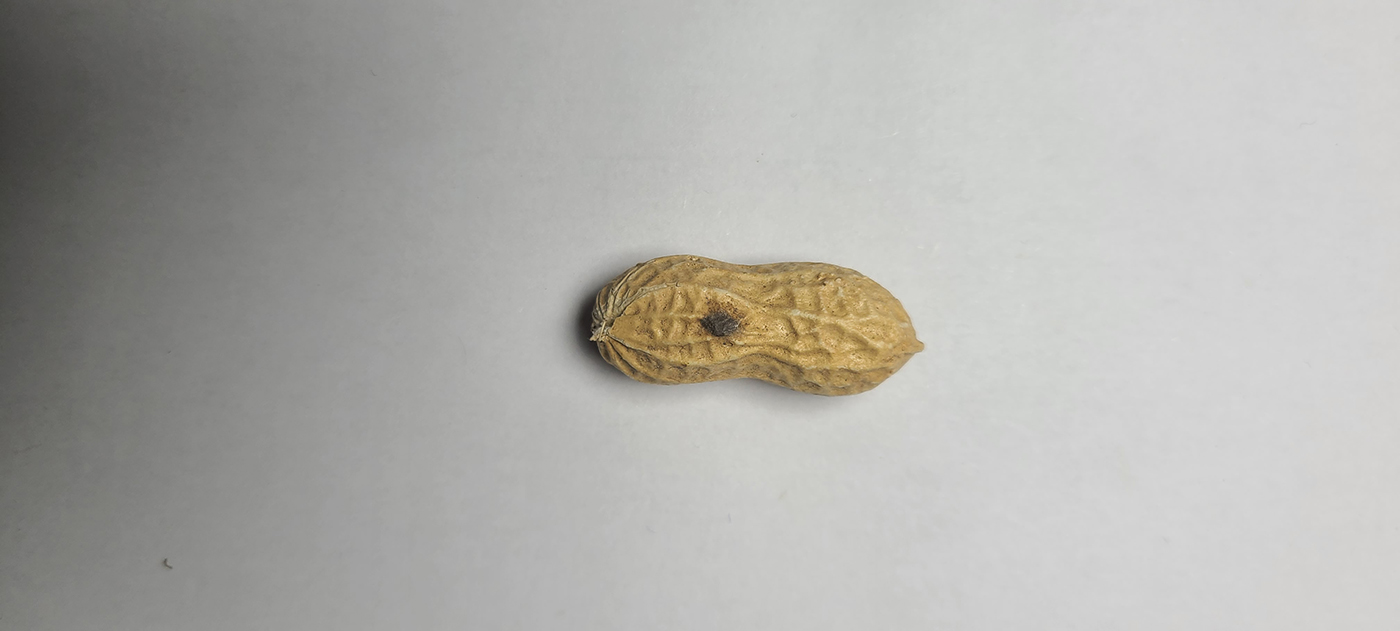h: (589, 253, 924, 396)
